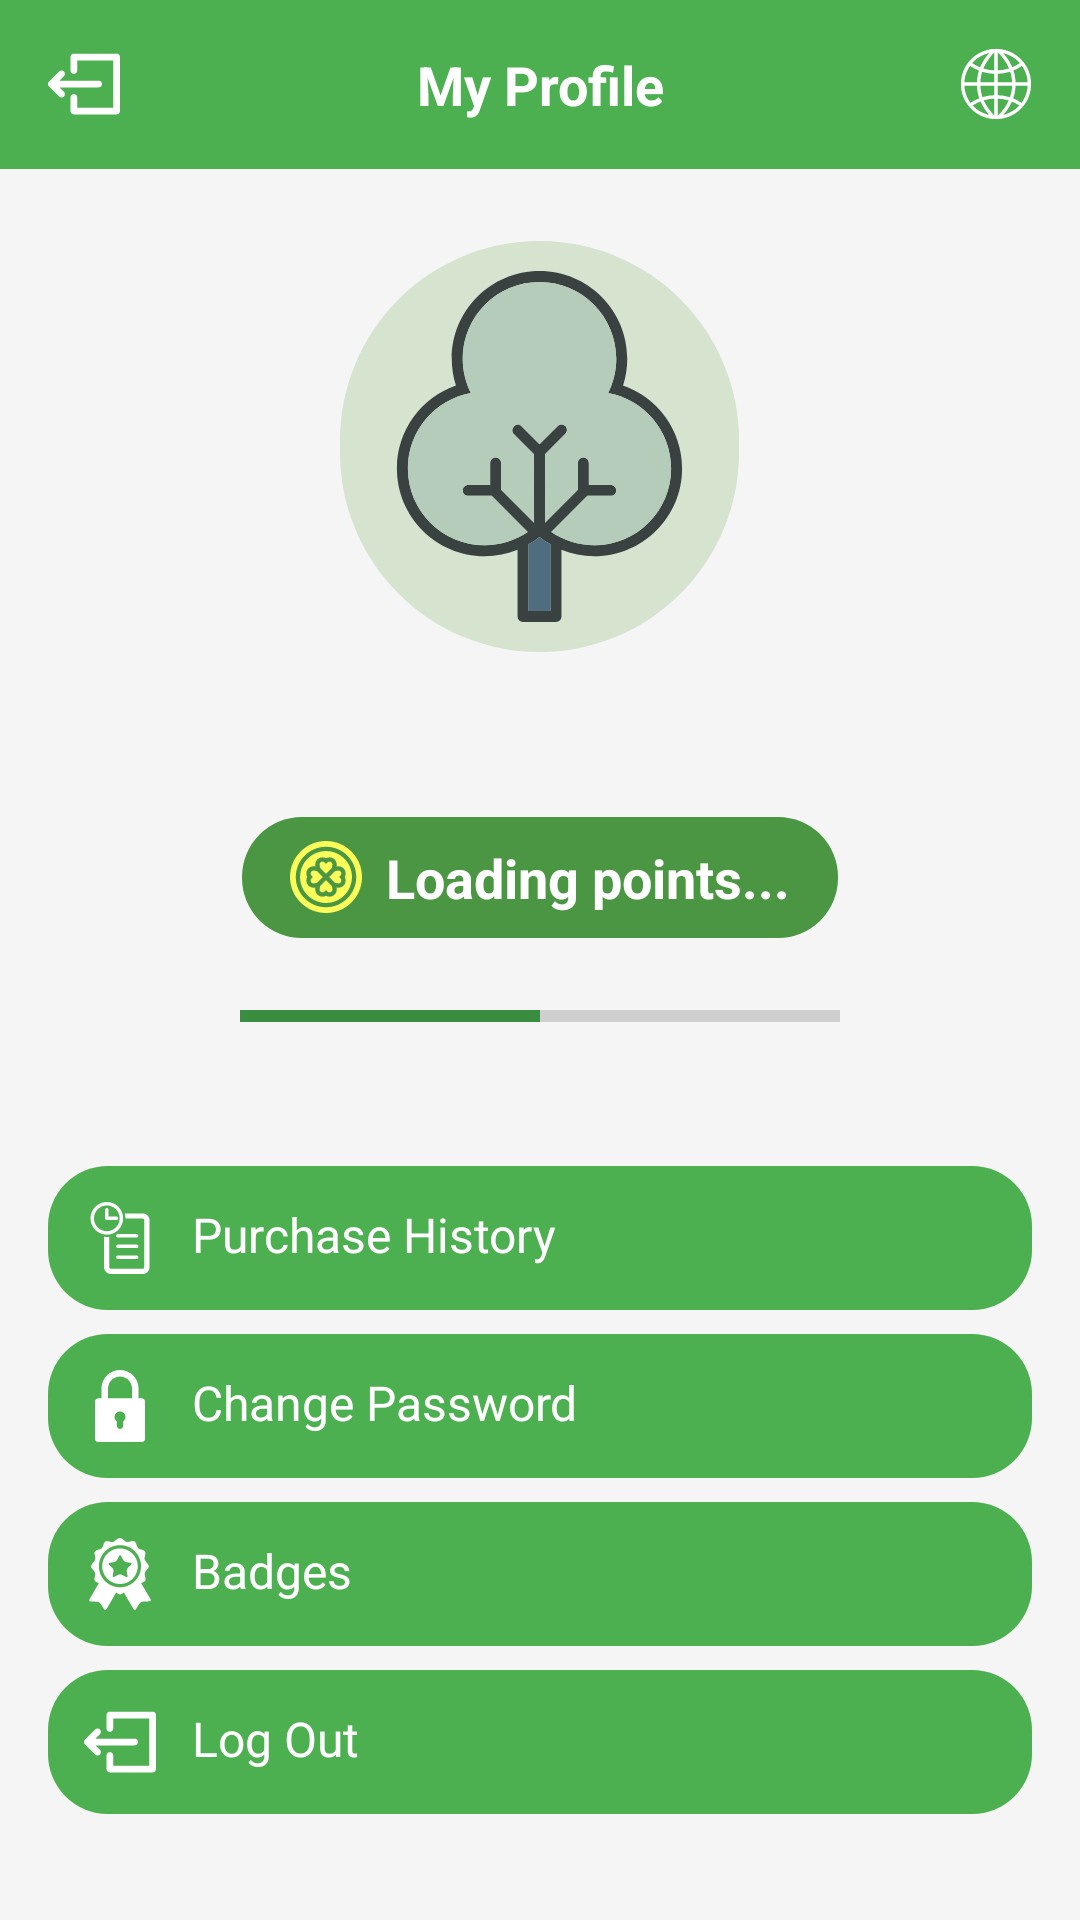

Icon bounding boxes for this 1080px×1920px phone screenshot, format (x1, y1, x2, y2):
globe: (961, 49, 1031, 119)
